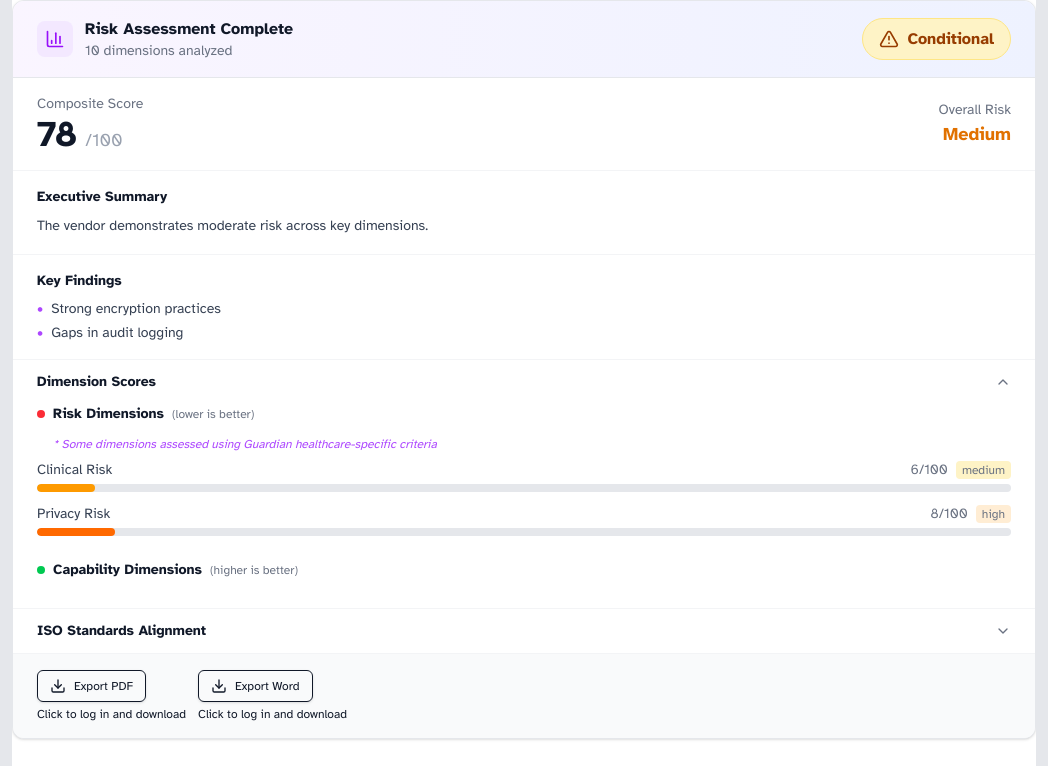
ScoringResultCard › ISO Alignment section › ISO section starts collapsed and expands on toggle click
Note: Click toggle to expand
Step 1. Click the button with test id "iso-alignment-toggle" → [122, 630], box left=13, top=609, right=1035, bottom=653
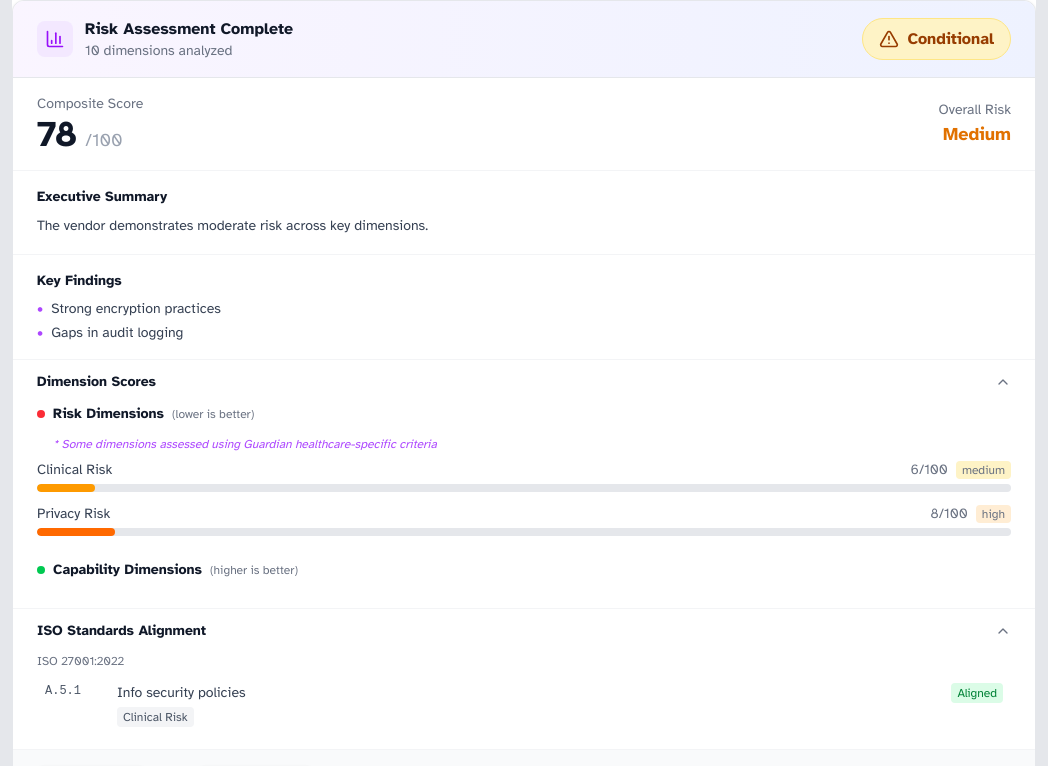
Expected: the element with test id "iso-alignment-section" is shown, left=37, top=653, right=1011, bottom=733
